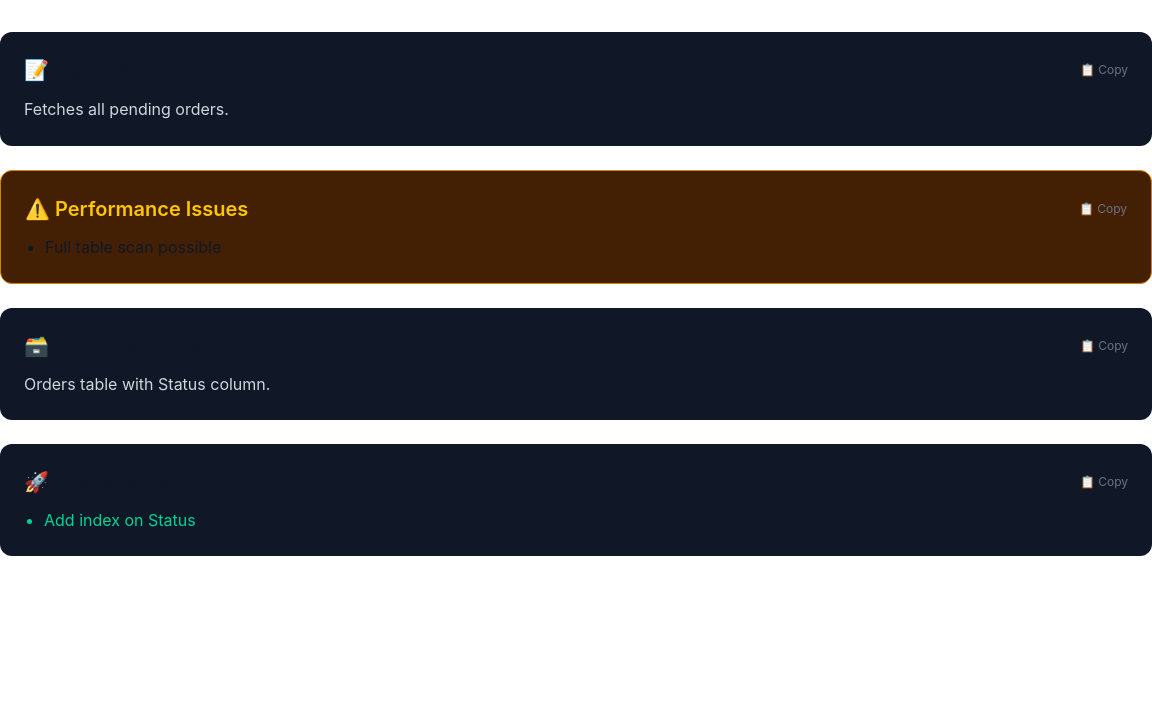
Test: Explanation › copy button shows Copied after click
This screenshot has width=1152, height=720.
Click the button "📋 Copy" in the row of "📝 Explanation": (1104, 70) top-left (1080, 62), bottom-right (1128, 78)
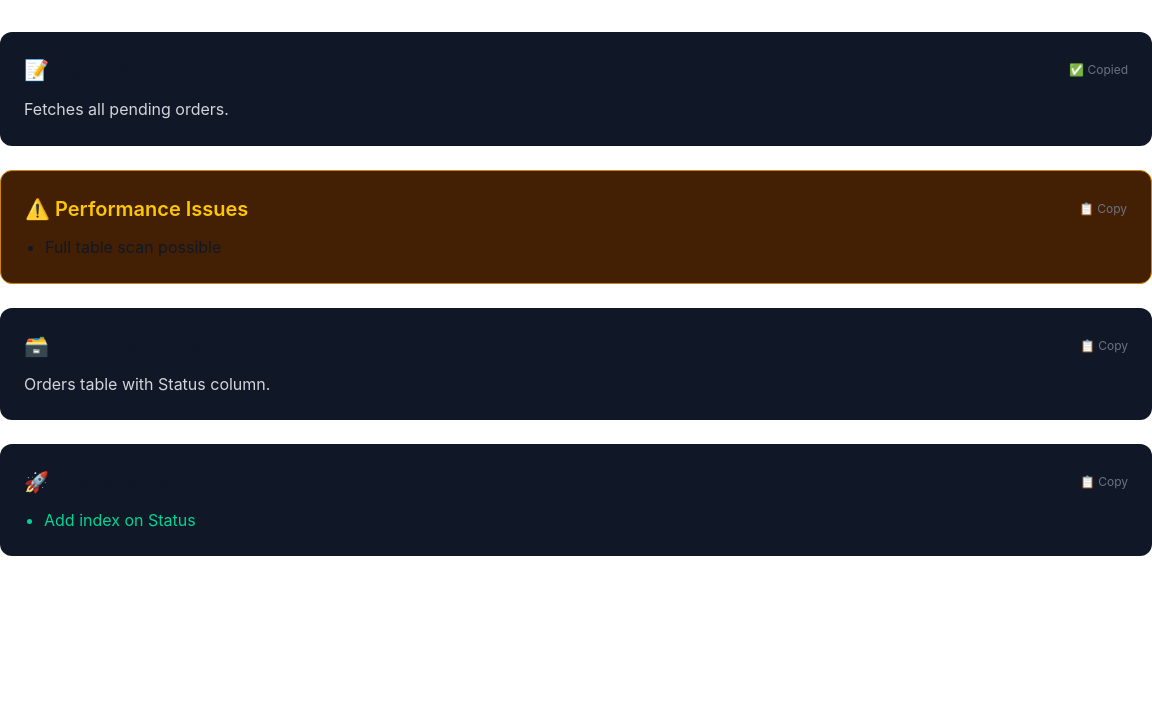
Result: the button "✅ Copied" is shown at top-left (1069, 62), bottom-right (1128, 78)
